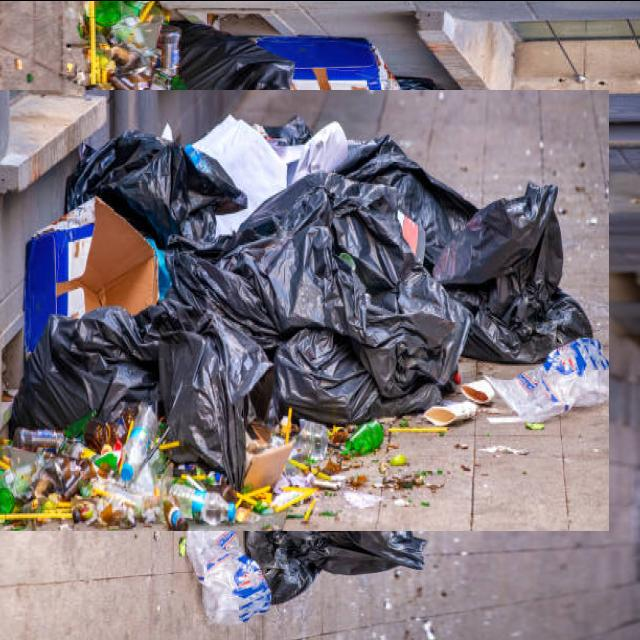garbage: (33, 44, 565, 576)
